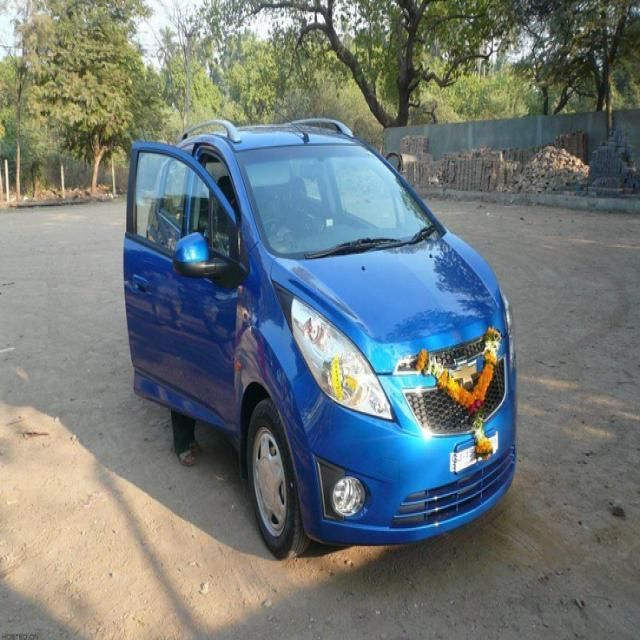car_front: (137, 90, 533, 558)
